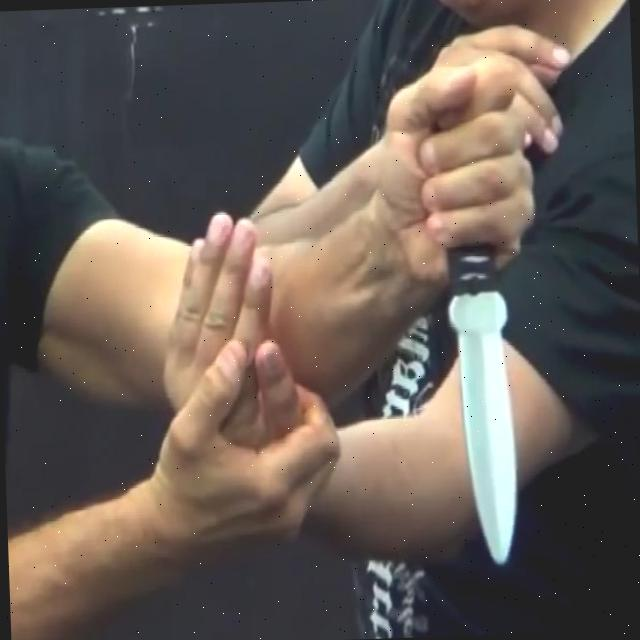suspicion: (0, 42, 554, 589), (444, 252, 522, 569)
